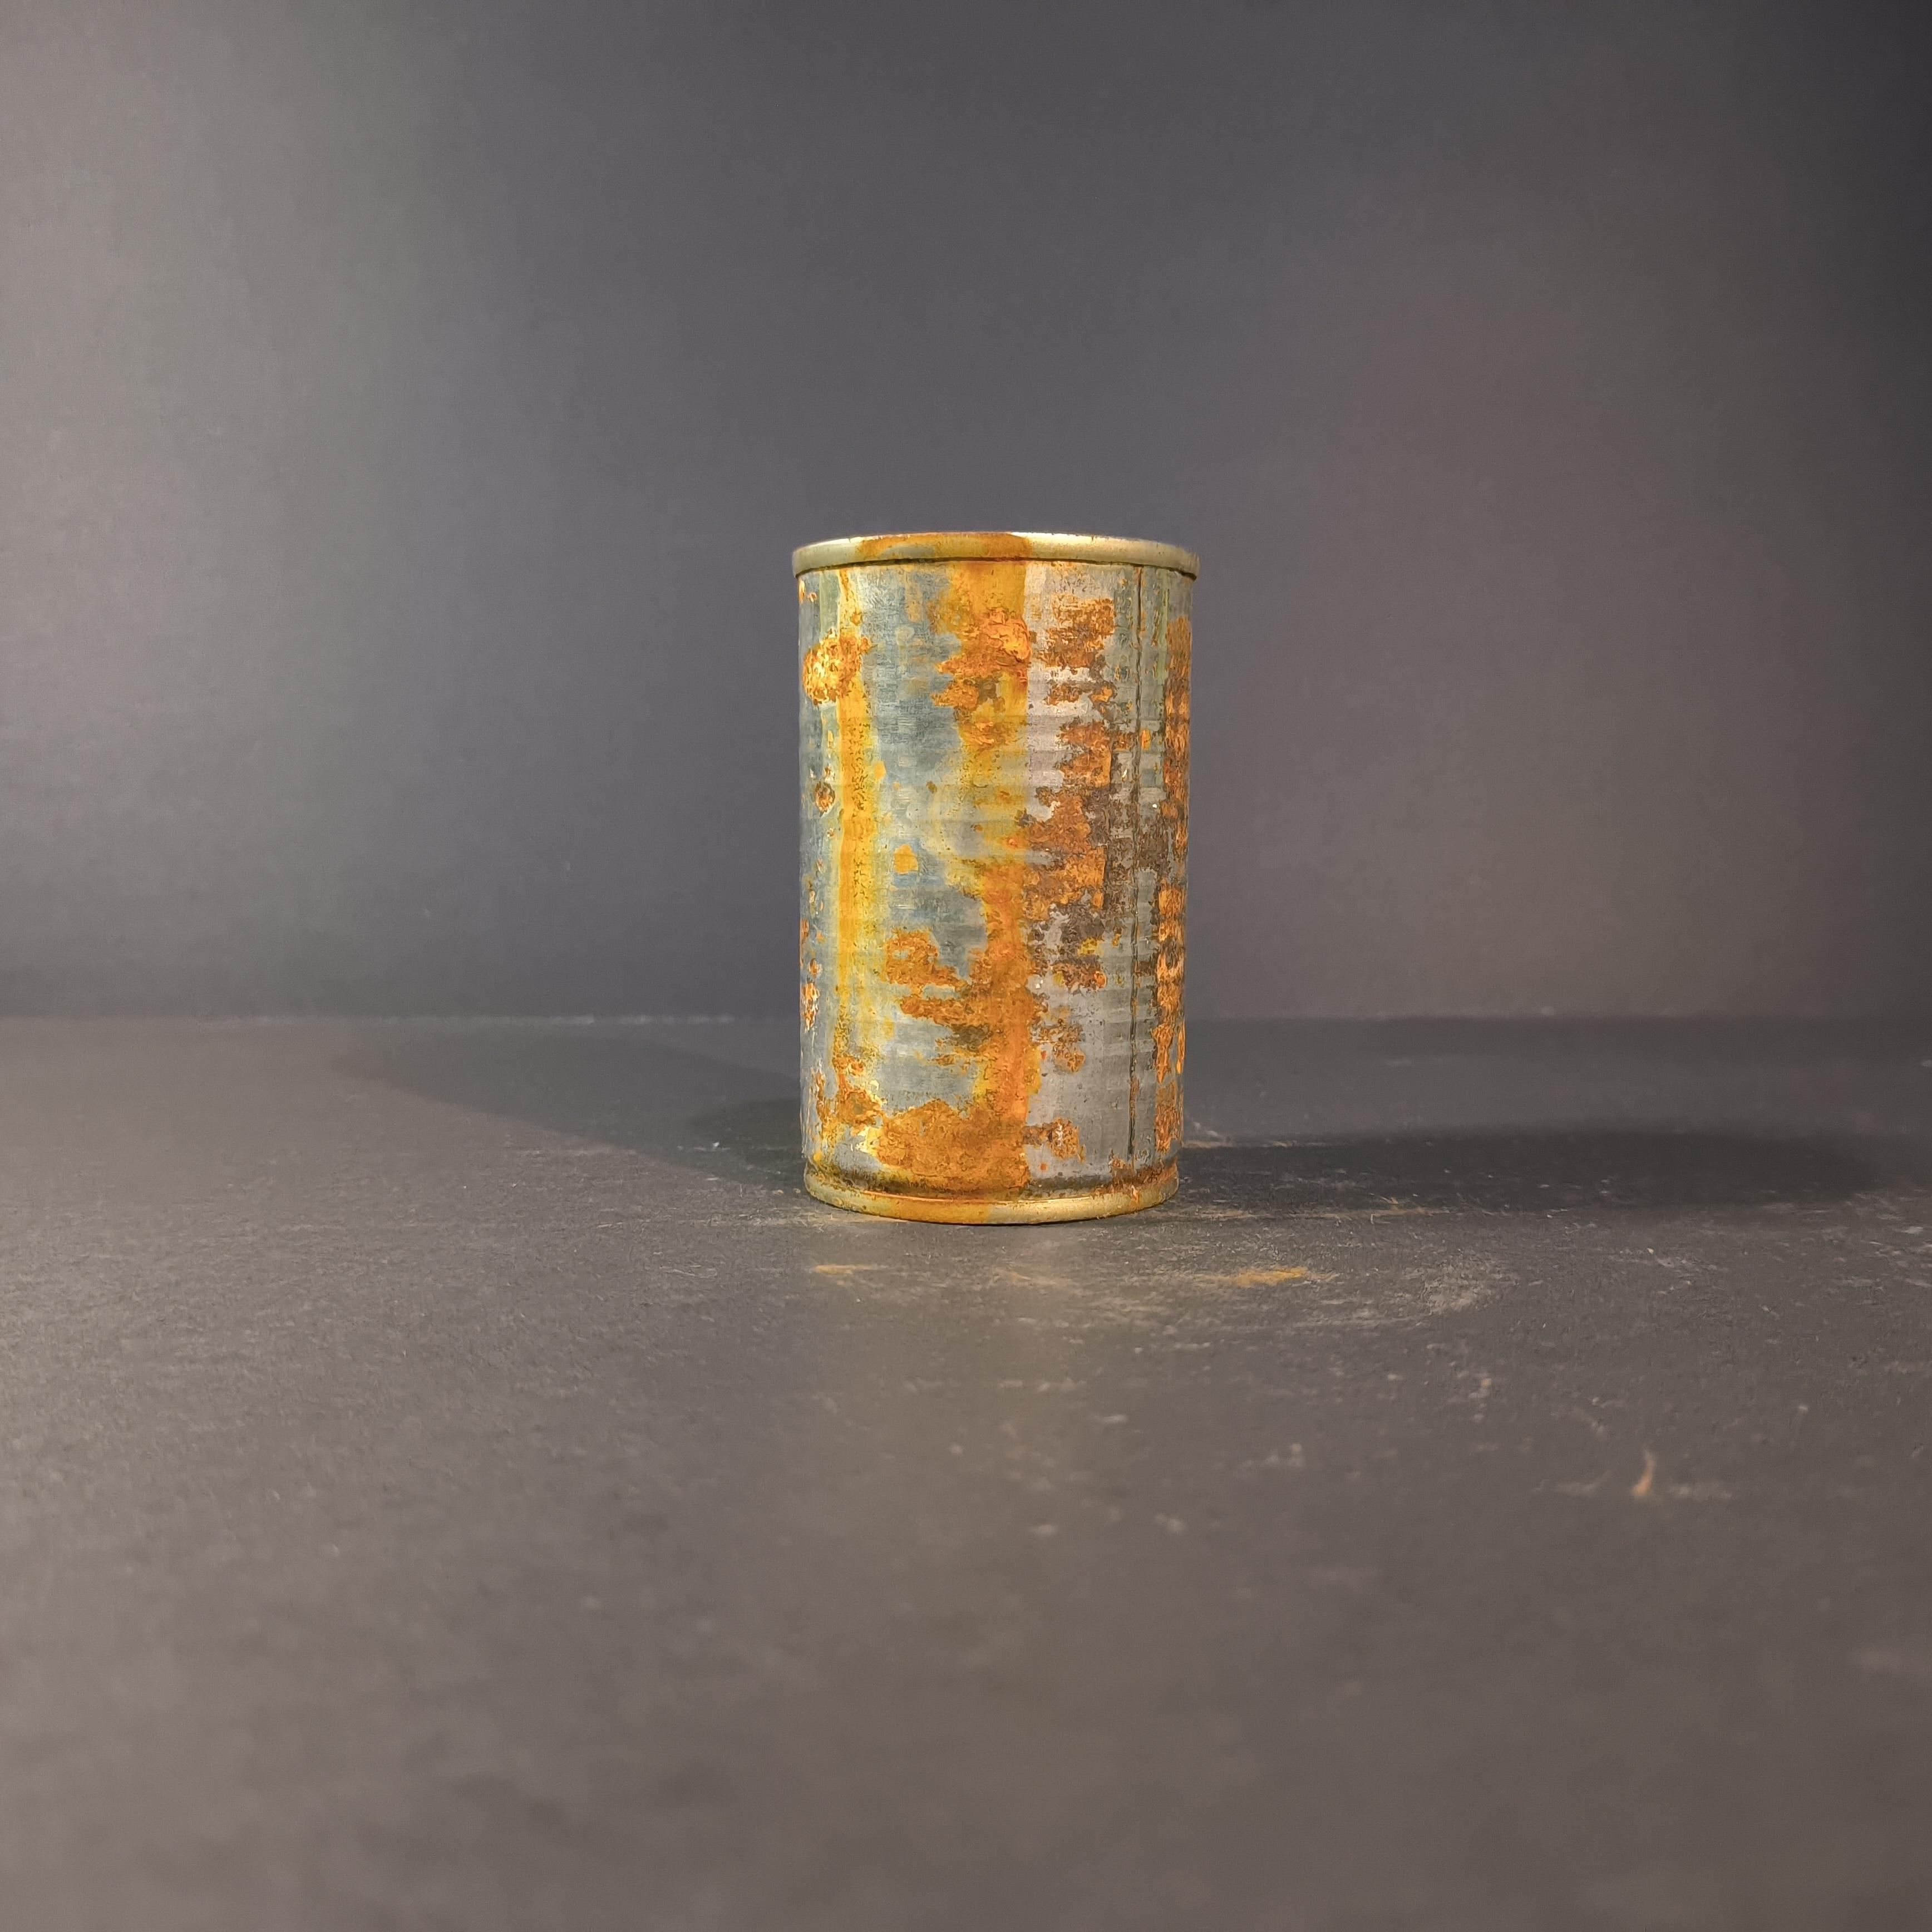Rusted: (771, 490, 1207, 1253)
